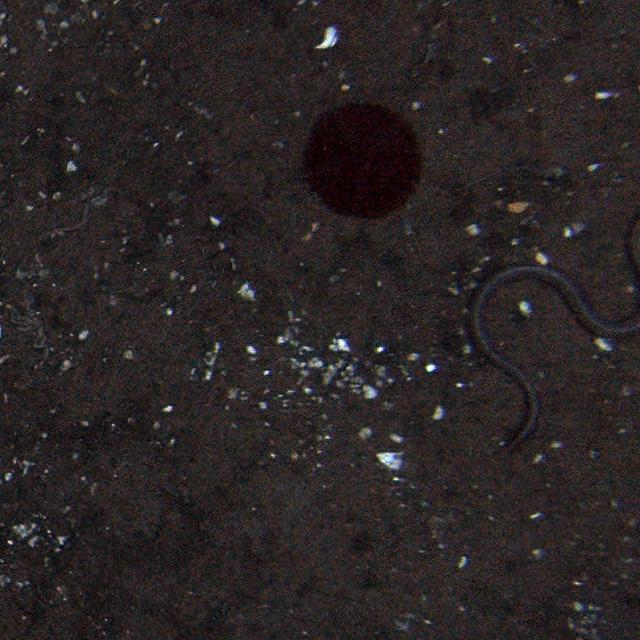eel: (466, 218, 640, 456)
